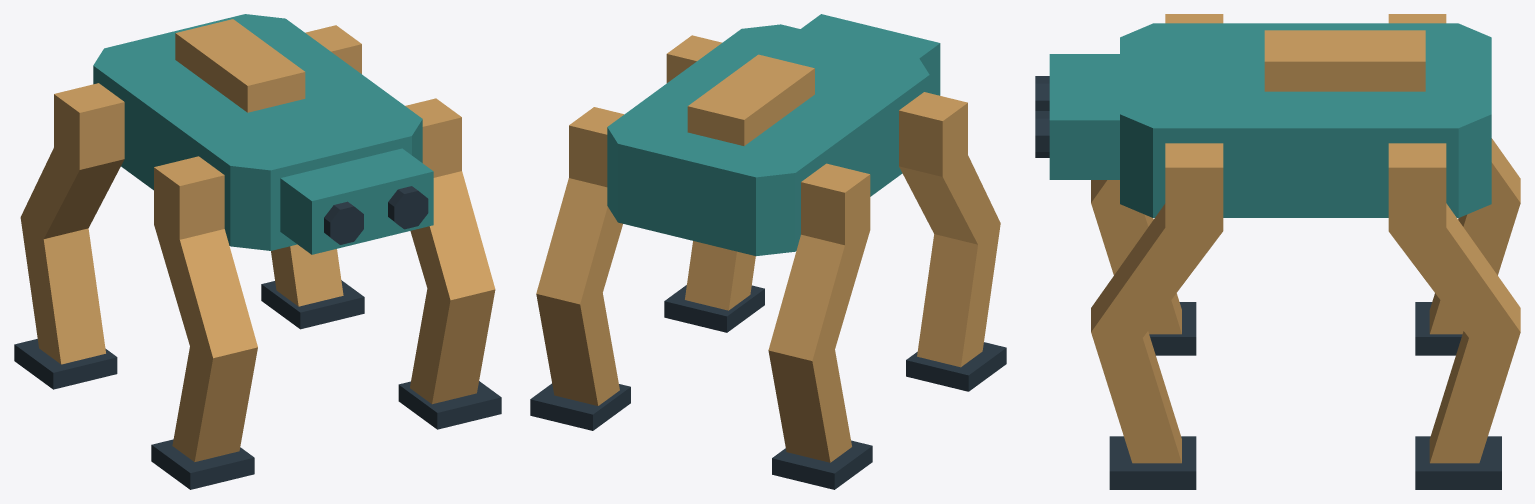
3 renders of one model, left to right at view 1: azimuth 30°, elevation 25°; view 2: azimuth 150°, elevation 25°; view 3: azimuth 270°, elevation 25°, orthographic. The views are drawn at different scales.
Parts seen in each view (by area): view 1: WholeChamferedTorso, LeftFrontWholeDogleg, LeftRearWholeDogleg, RightFrontWholeDogleg, WholeForwardSensorBlock, WholeDorsalHousing, RightRearWholeDogleg, LeftFrontWholeGroundPad, LeftRearWholeGroundPad, RightFrontWholeGroundPad, RightRearWholeGroundPad, RightSolidOctagonalLens (+1 smaller); view 2: WholeChamferedTorso, LeftRearWholeDogleg, LeftFrontWholeDogleg, RightRearWholeDogleg, WholeDorsalHousing, RightFrontWholeDogleg, WholeForwardSensorBlock, LeftRearWholeGroundPad, LeftFrontWholeGroundPad, RightRearWholeGroundPad, RightFrontWholeGroundPad; view 3: WholeChamferedTorso, RightRearWholeDogleg, RightFrontWholeDogleg, WholeDorsalHousing, WholeForwardSensorBlock, LeftRearWholeDogleg, LeftFrontWholeDogleg, RightFrontWholeGroundPad, RightRearWholeGroundPad, LeftFrontWholeGroundPad, LeftRearWholeGroundPad, RightSolidOctagonalLens (+1 smaller).
Part boxes in pixels (x1,y1,x2,y2): WholeChamferedTorso: (93,14,422,250); LeftFrontWholeDogleg: (154,156,257,461); LeftRearWholeDogleg: (20,83,124,364); RightFrontWholeDogleg: (405,98,495,404); WholeForwardSensorBlock: (280,148,433,254); WholeDorsalHousing: (175,19,305,112); RightRearWholeDogleg: (271,25,361,306); LeftFrontWholeGroundPad: (151,439,254,489); LeftRearWholeGroundPad: (14,339,117,389); RightFrontWholeGroundPad: (398,381,501,429); RightRearWholeGroundPad: (261,280,364,329); RightSolidOctagonalLens: (388,186,428,229); WholeChamferedTorso: (607,24,929,256); LeftRearWholeDogleg: (768,163,870,462); LeftFrontWholeDogleg: (899,92,1000,367); RightRearWholeDogleg: (536,107,623,405); WholeDorsalHousing: (687,54,814,145); RightFrontWholeDogleg: (666,35,755,310); WholeForwardSensorBlock: (801,14,940,95); LeftRearWholeGroundPad: (772,440,872,489); LeftFrontWholeGroundPad: (906,342,1006,391); RightRearWholeGroundPad: (530,383,630,430); RightFrontWholeGroundPad: (664,285,764,332); WholeChamferedTorso: (1120,23,1491,217); RightRearWholeDogleg: (1388,143,1520,463); RightFrontWholeDogleg: (1091,143,1223,463); WholeDorsalHousing: (1264,30,1425,91); WholeForwardSensorBlock: (1049,54,1119,179); LeftRearWholeDogleg: (1388,14,1520,334); LeftFrontWholeDogleg: (1091,14,1223,334); RightFrontWholeGroundPad: (1109,436,1196,489); RightRearWholeGroundPad: (1415,436,1501,489); LeftFrontWholeGroundPad: (1149,302,1196,355); LeftRearWholeGroundPad: (1415,302,1462,355); RightSolidOctagonalLens: (1035,111,1049,157).
Bounding box in the file's own units: 0.97 × 0.96 × 1.17.
